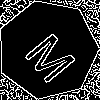M: (22, 24, 85, 86)
